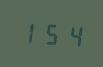five: (40, 19, 60, 47)
four: (61, 20, 81, 49)
one: (18, 17, 38, 46)
